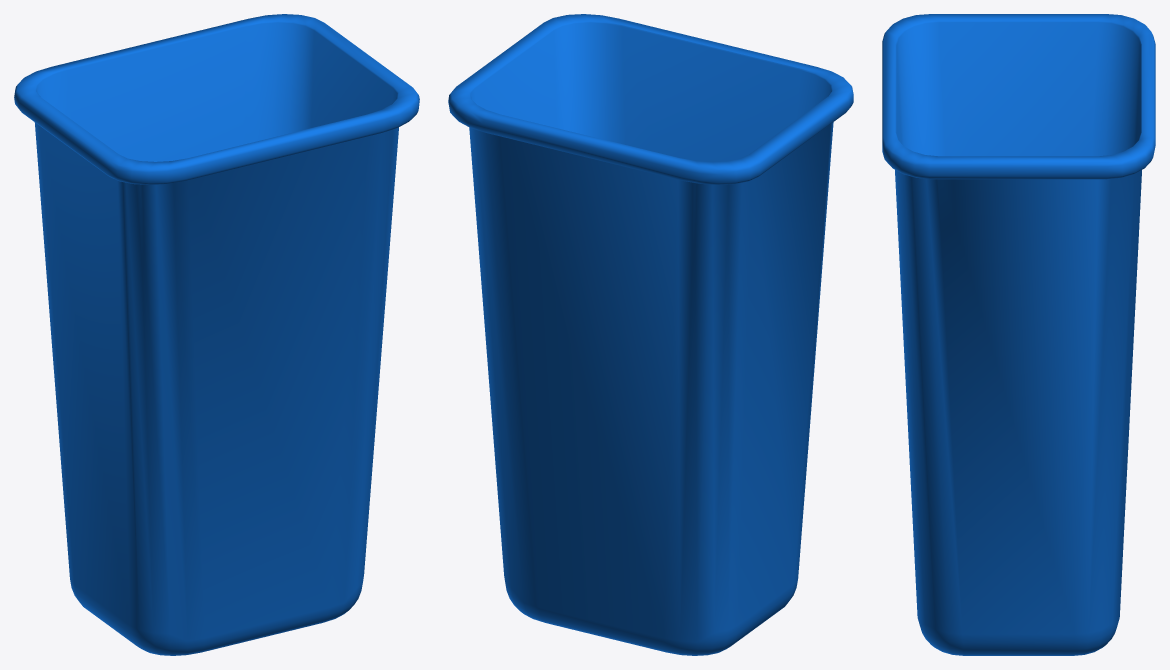
Rendered from trash_office.glb.
3 views of the same model, side by side, from view 1: azimuth 30°, elevation 25°; view 2: azimuth 150°, elevation 25°; view 3: azimuth 270°, elevation 25° (orthographic).
Visible parts, largest first — view 1: TrashCan_Material.003_0; view 2: TrashCan_Material.003_0; view 3: TrashCan_Material.003_0.
Boxes of the visible parts, bbox=[...] form: TrashCan_Material.003_0: bbox=[14, 14, 419, 655]; TrashCan_Material.003_0: bbox=[448, 14, 853, 655]; TrashCan_Material.003_0: bbox=[882, 14, 1155, 655].
Size of the model in its own units: 0.4882 by 0.7795 by 0.373.
